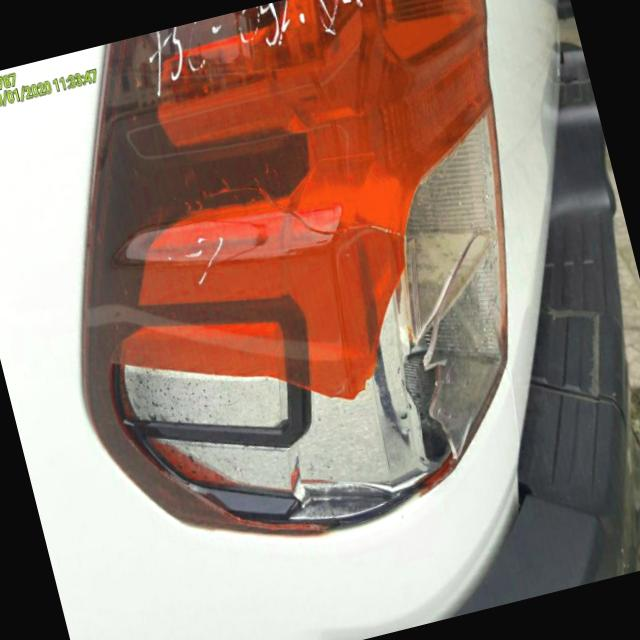Phare abime: (61, 107, 577, 578)
